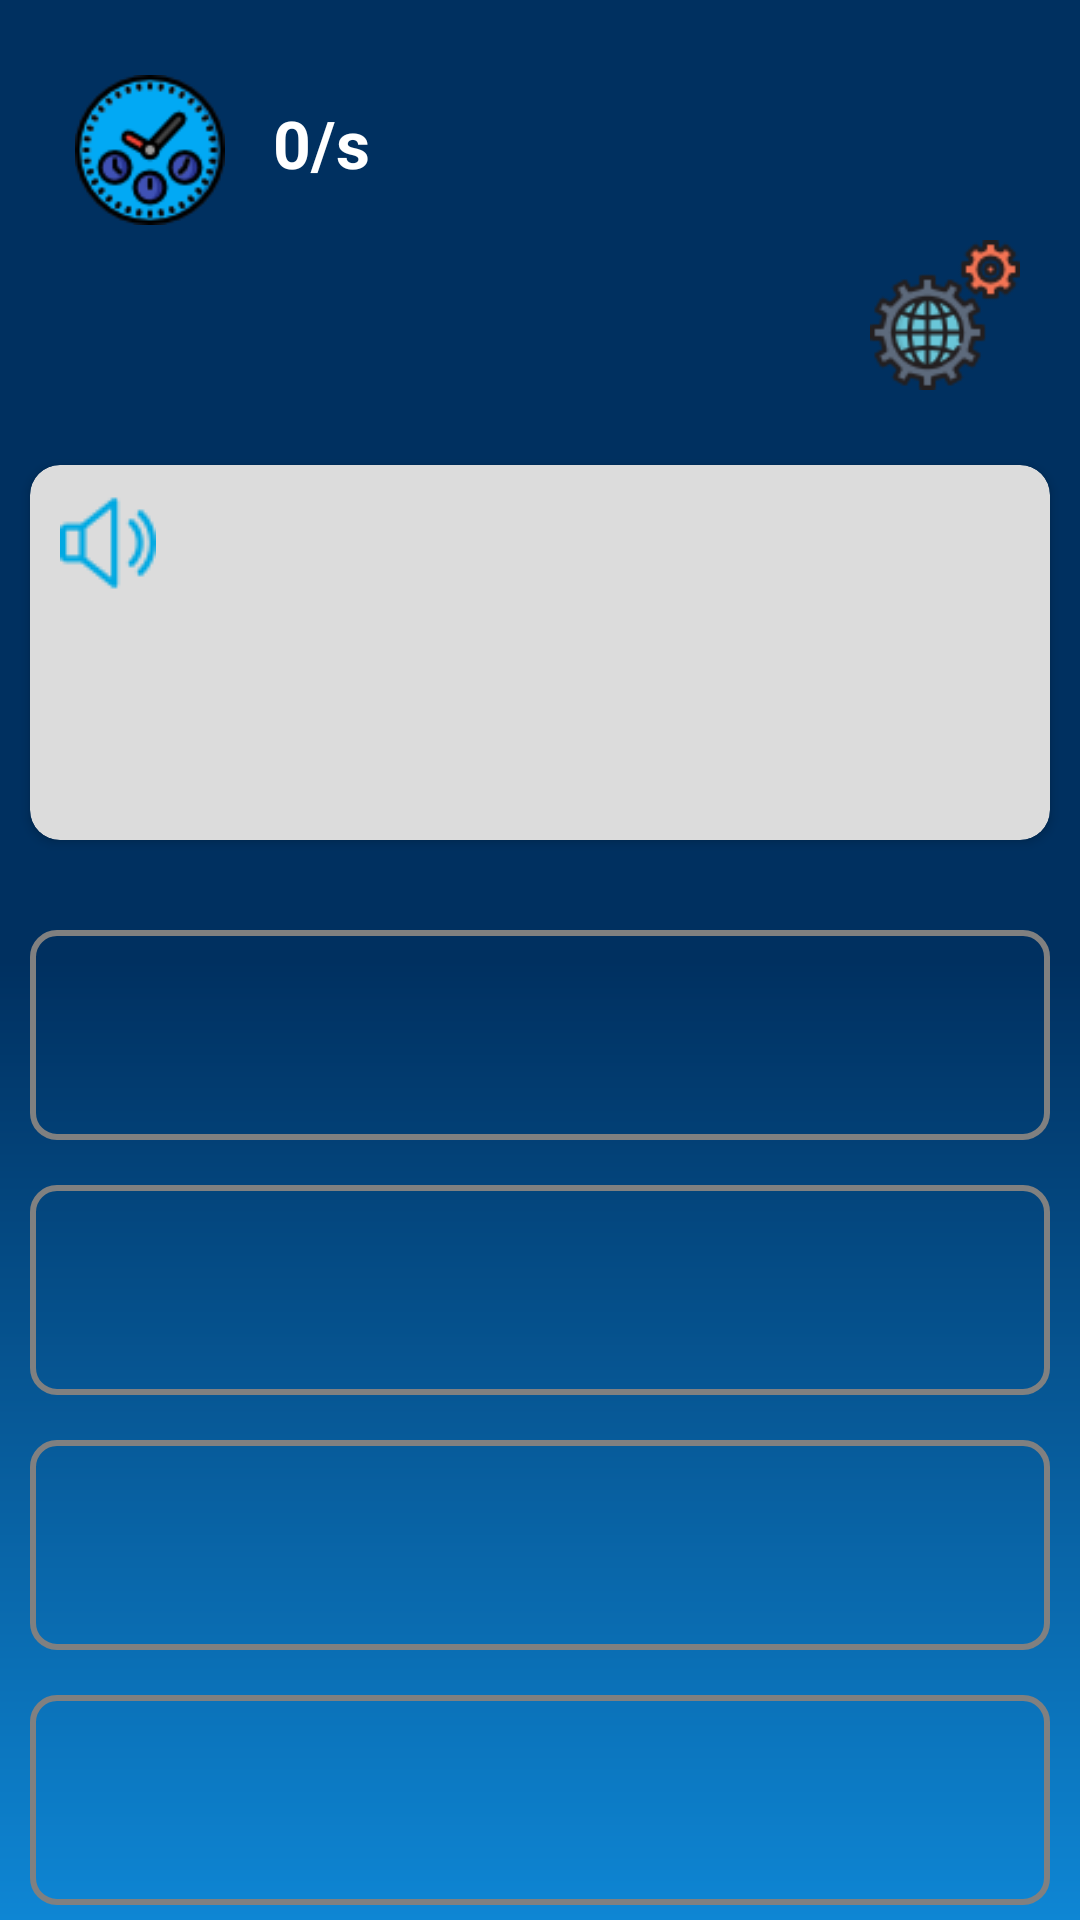

Named icons in this screenshot (1080*1920) and their bounding boxes, (x1, y1, x2, y2):
clock: (75, 75, 225, 225)
development: (870, 240, 1020, 390)
volume: (60, 497, 156, 589)
